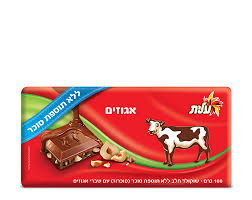Chocolate: (22, 85, 240, 185)
